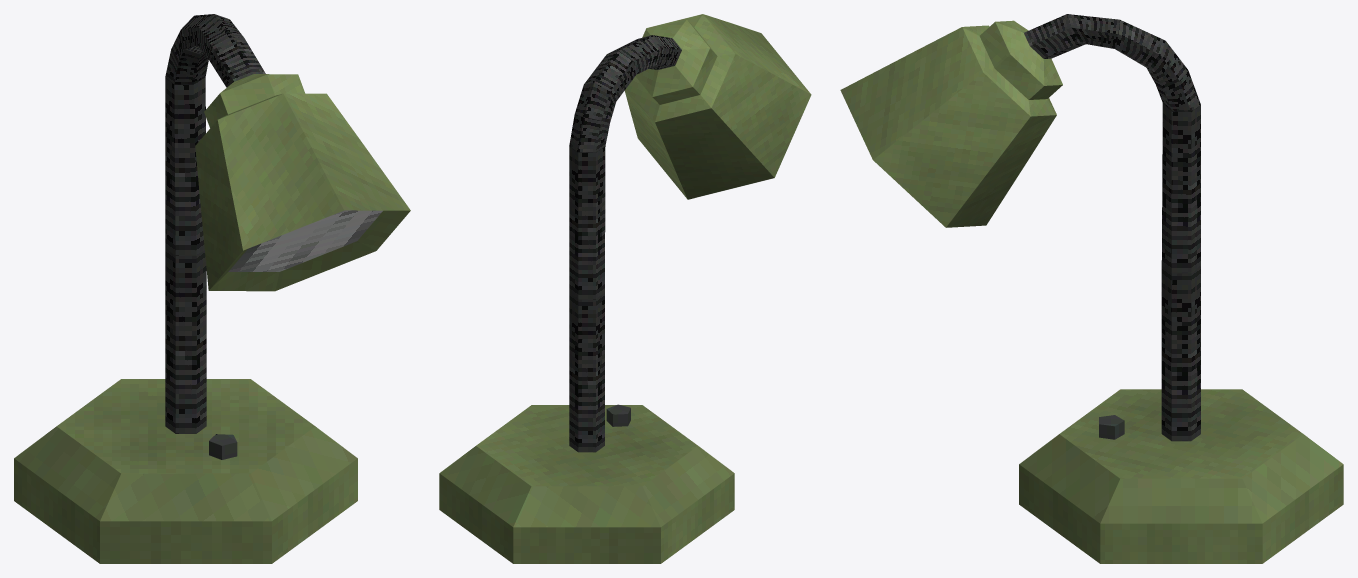
File: circular_desklamp_alt.fbx
3 renders of one model, left to right at view 1: azimuth 30°, elevation 25°; view 2: azimuth 150°, elevation 25°; view 3: azimuth 270°, elevation 25°, orthographic. The views are drawn at different scales.
Visible parts, largest first — view 1: circular_desklamp_alt; view 2: circular_desklamp_alt; view 3: circular_desklamp_alt.
Part boxes in pixels (box(x1,y1,x2,y2)): circular_desklamp_alt: box(14, 14, 410, 563); circular_desklamp_alt: box(439, 14, 811, 563); circular_desklamp_alt: box(840, 14, 1343, 563).
Bounding box in the file's own units: 19.83 × 37.65 × 35.51.
